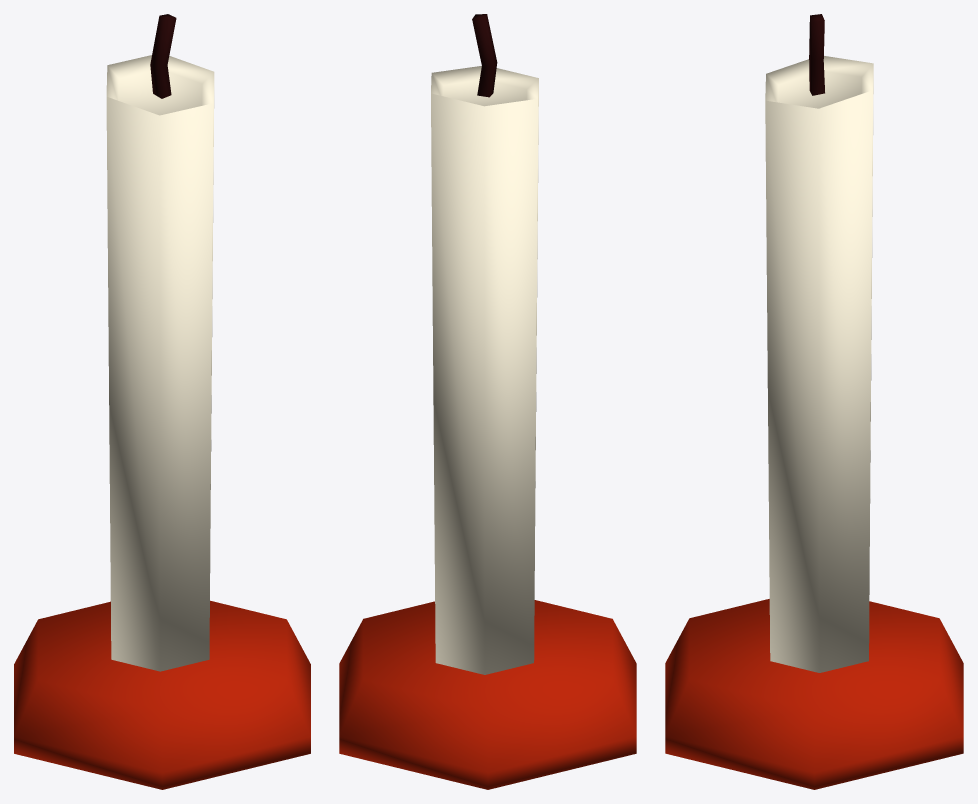
File: HWN20_Candle_15.glb
3 views of the same model, side by side, from view 1: azimuth 30°, elevation 25°; view 2: azimuth 150°, elevation 25°; view 3: azimuth 270°, elevation 25° (orthographic).
Parts seen in each view (by area): view 1: HWN20_Candle_15; view 2: HWN20_Candle_15; view 3: HWN20_Candle_15.
Boxes of the visible parts, <box> form: HWN20_Candle_15: <box>14,14,310,789</box>; HWN20_Candle_15: <box>339,14,636,789</box>; HWN20_Candle_15: <box>665,14,963,789</box>.
Size of what is drawn, in the model's own units: 0.191 by 0.4299 by 0.1654.
Materials: 1 (1 with a texture image).
